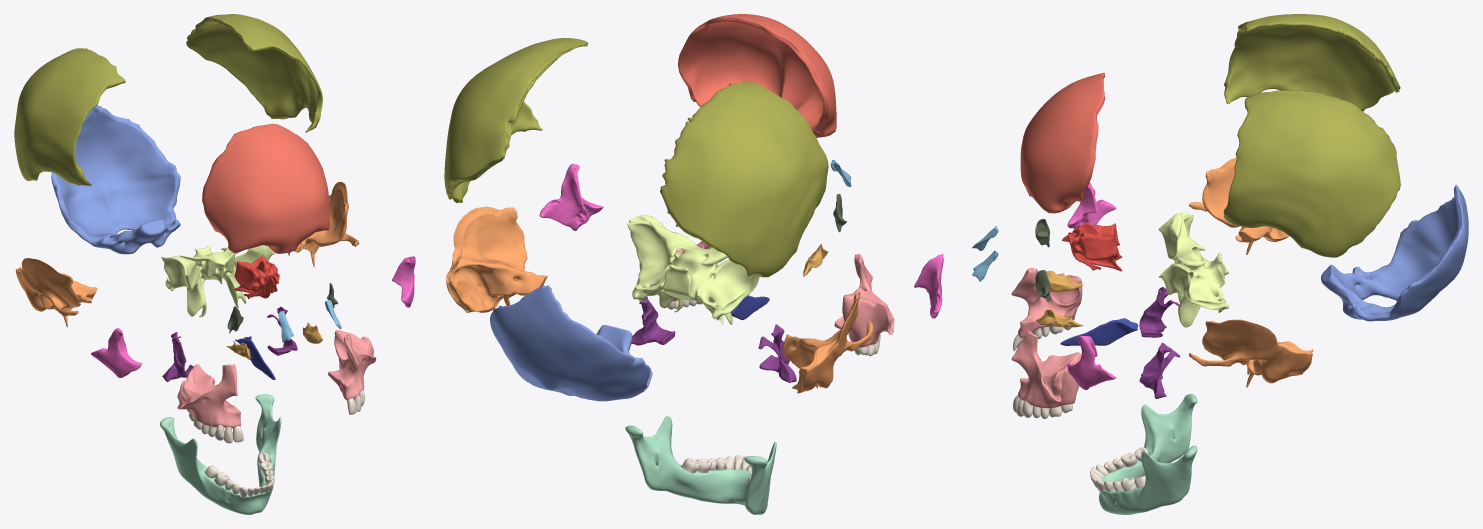
The model's file is overview-exploded-skull.glb.
3 views of the same model, side by side, from view 1: azimuth 30°, elevation 25°; view 2: azimuth 150°, elevation 25°; view 3: azimuth 270°, elevation 25° (orthographic). The views are drawn at different scales.
Parts seen in each view (by area): view 1: Frontal bone, Occipital bone, Parietal bone.r, Parietal bone.l, Mandible bone, Sphenoid bone, Maxilla bone.r, Temporal bone.r, Maxilla bone.l, Temporal bone.l, Ethmoid Bone, Zygomatic bone.r (+3 smaller); view 2: Parietal bone.r, Frontal bone, Occipital bone, Parietal bone.l, Sphenoid bone, Temporal bone.l, Mandible bone, Temporal bone.r, Maxilla bone.r, Zygomatic bone.l, Zygomatic bone.r, Palatine bone.l (+1 smaller); view 3: Parietal bone.l, Parietal bone.r, Occipital bone, Frontal bone, Mandible bone, Temporal bone.l, Sphenoid bone, Maxilla bone.l, Temporal bone.r, Maxilla bone.r, Ethmoid Bone, Zygomatic bone.l (+4 smaller).
Part boxes in pixels (x1,y1,x2,y2): Frontal bone: (202,123,329,255); Occipital bone: (51,105,180,254); Parietal bone.r: (14,48,125,185); Parietal bone.l: (186,14,322,132); Mandible bone: (160,394,281,514); Sphenoid bone: (161,245,275,317); Maxilla bone.r: (177,364,240,428); Temporal bone.r: (15,258,97,327); Maxilla bone.l: (328,330,376,400); Temporal bone.l: (294,181,359,266); Ethmoid Bone: (234,255,279,298); Zygomatic bone.r: (91,328,142,377); Parietal bone.r: (660,80,828,277); Frontal bone: (678,14,836,137); Occipital bone: (490,284,652,401); Parietal bone.l: (444,38,588,203); Sphenoid bone: (627,214,759,324); Temporal bone.l: (446,206,547,312); Mandible bone: (625,415,776,514); Temporal bone.r: (782,292,873,393); Maxilla bone.r: (834,254,894,347); Zygomatic bone.l: (539,163,603,230); Zygomatic bone.r: (914,253,943,318); Palatine bone.l: (631,296,675,345); Parietal bone.l: (1223,90,1400,257); Parietal bone.r: (1224,14,1400,111); Occipital bone: (1321,184,1468,321); Frontal bone: (1020,72,1105,213); Mandible bone: (1098,394,1197,514); Temporal bone.l: (1189,319,1313,387); Sphenoid bone: (1158,212,1228,327); Maxilla bone.l: (1011,330,1081,408); Temporal bone.r: (1189,157,1289,254); Maxilla bone.r: (1011,268,1082,338); Ethmoid Bone: (1062,222,1122,271); Zygomatic bone.l: (1067,336,1116,389).
Size of the model in its own units: 0.32 by 0.3903 by 0.3893.
